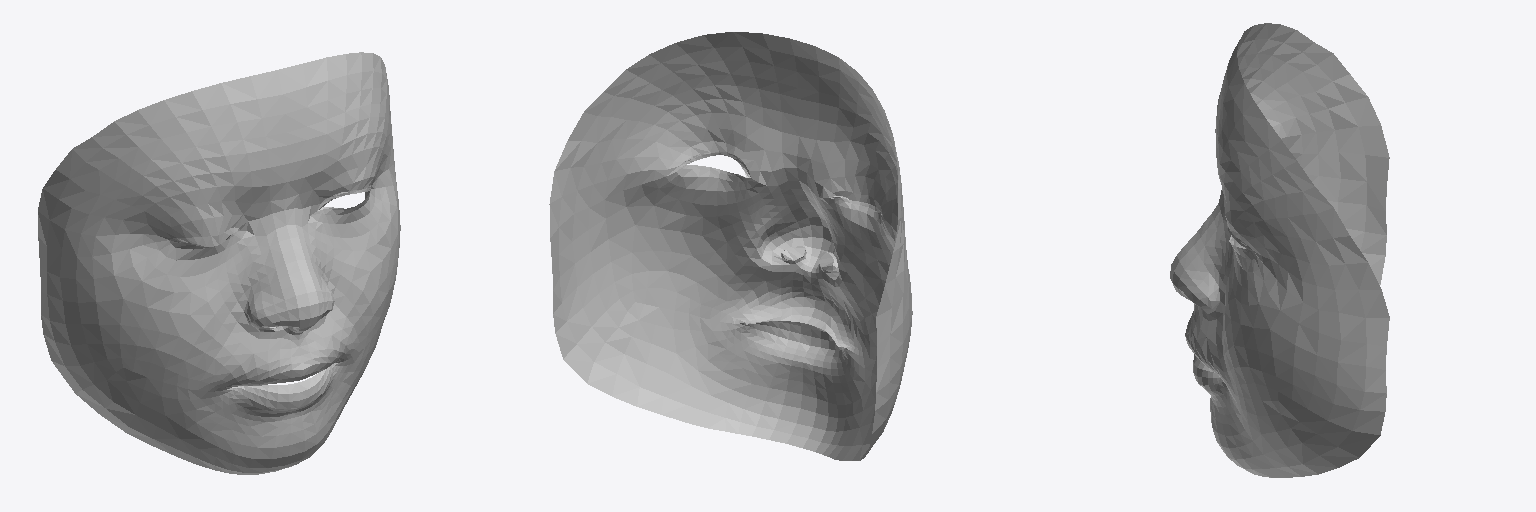
The model's file is eyeBlink_R.obj.
The picture shows the model from 3 angles: view 1: azimuth 30°, elevation 25°; view 2: azimuth 150°, elevation 25°; view 3: azimuth 270°, elevation 25°; orthographic projection.
Visible parts, largest first — view 1: default; view 2: default; view 3: default.
Boxes of the visible parts, <box> form: default: <box>38,52,400,474</box>; default: <box>549,32,912,460</box>; default: <box>1170,23,1389,477</box>.
Size of the model in its own units: 0.1624 by 0.1851 by 0.0913.